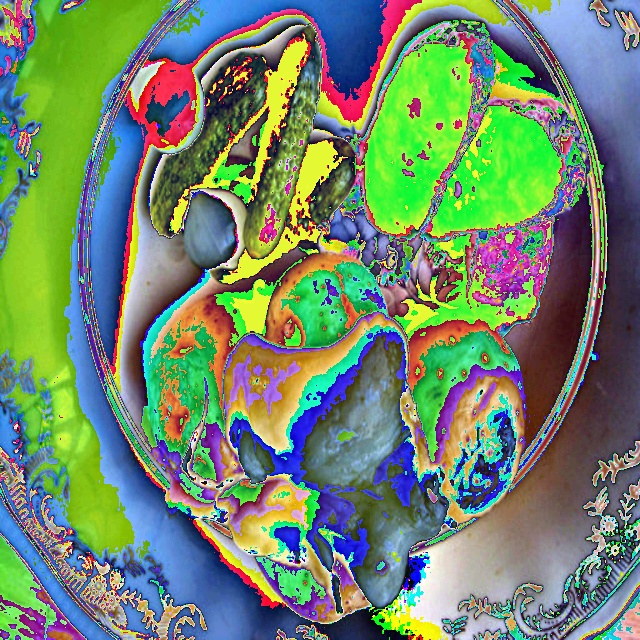background: (148, 20, 594, 623), (139, 22, 359, 284)
